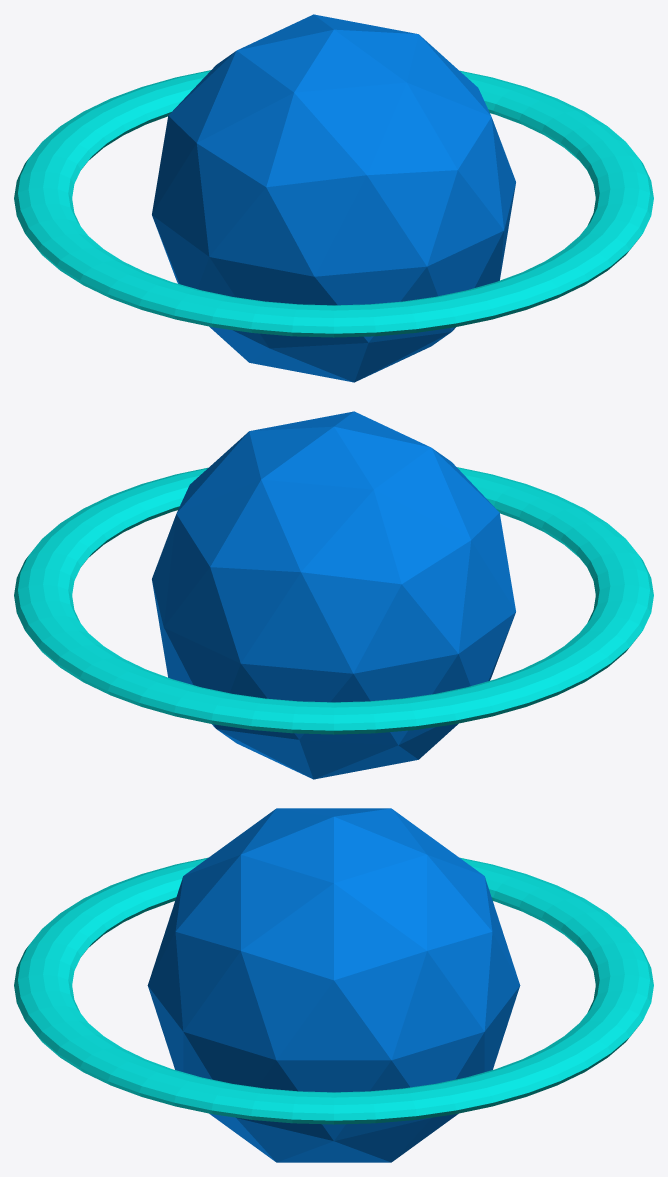
The model's file is Planet4.fbx.
3 views of the same model, one above another, from view 1: azimuth 30°, elevation 25°; view 2: azimuth 150°, elevation 25°; view 3: azimuth 270°, elevation 25° (orthographic).
Parts seen in each view (by area): view 1: Icosphere.002, Torus; view 2: Icosphere.002, Torus; view 3: Icosphere.002, Torus.
Boxes of the visible parts, <box> form: Icosphere.002: <box>152,14,515,382</box>; Torus: <box>14,70,653,337</box>; Icosphere.002: <box>152,411,515,779</box>; Torus: <box>14,467,653,734</box>; Icosphere.002: <box>147,808,520,1162</box>; Torus: <box>14,857,653,1124</box>.
Size of the model in its own units: 1031 by 600 by 1031.
